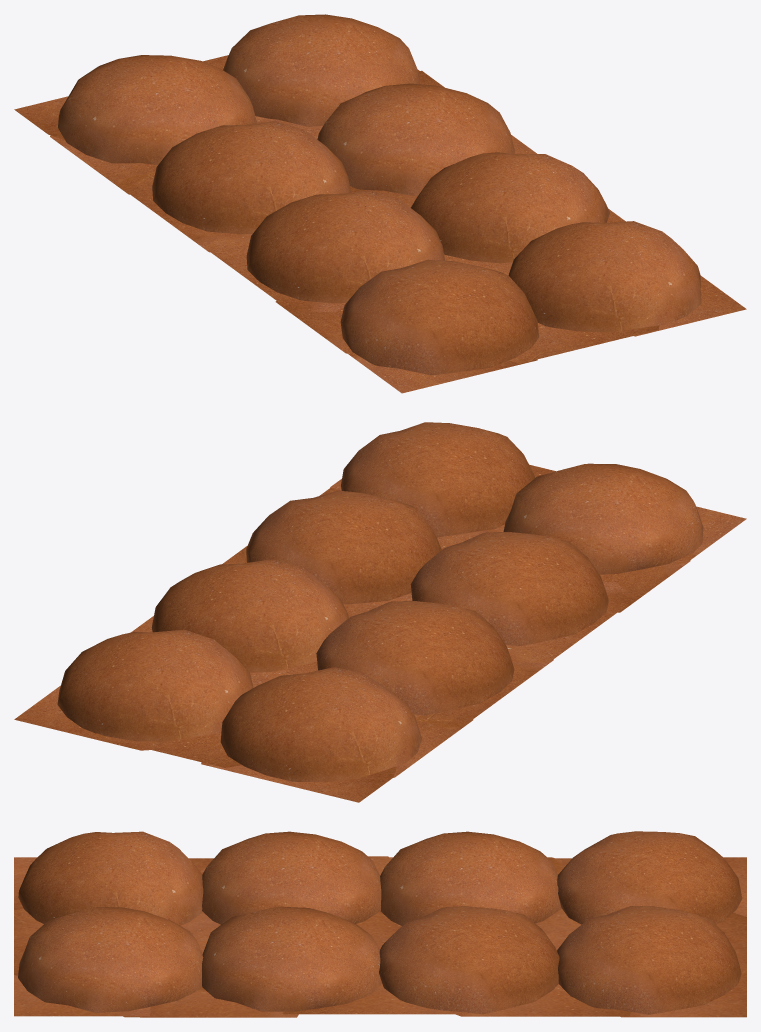
File: Box_BunUpper.fbx
The picture shows the model from 3 angles, top to bottom: view 1: azimuth 30°, elevation 25°; view 2: azimuth 150°, elevation 25°; view 3: azimuth 270°, elevation 25°; orthographic projection. The views are drawn at different scales.
Parts seen in each view (by area): view 1: Box_BunUpper; view 2: Box_BunUpper; view 3: Box_BunUpper.
Part boxes in pixels (x1,y1,x2,y2): Box_BunUpper: (14,14,746,393); Box_BunUpper: (14,422,746,802); Box_BunUpper: (14,831,746,1017).
Size of the model in its own units: 19.04 by 3.28 by 37.
